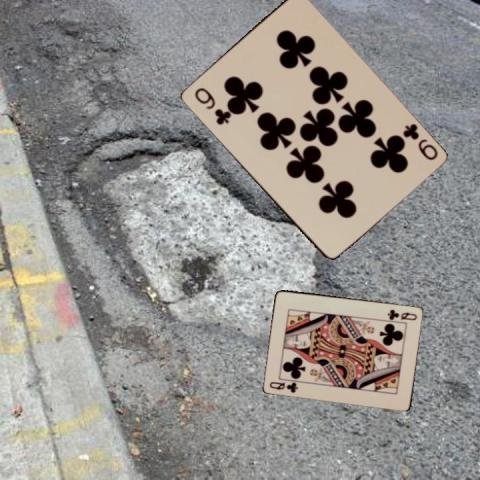9c: (190, 84, 230, 126), (398, 121, 438, 162)
Qc: (384, 306, 418, 321), (267, 379, 299, 394)
